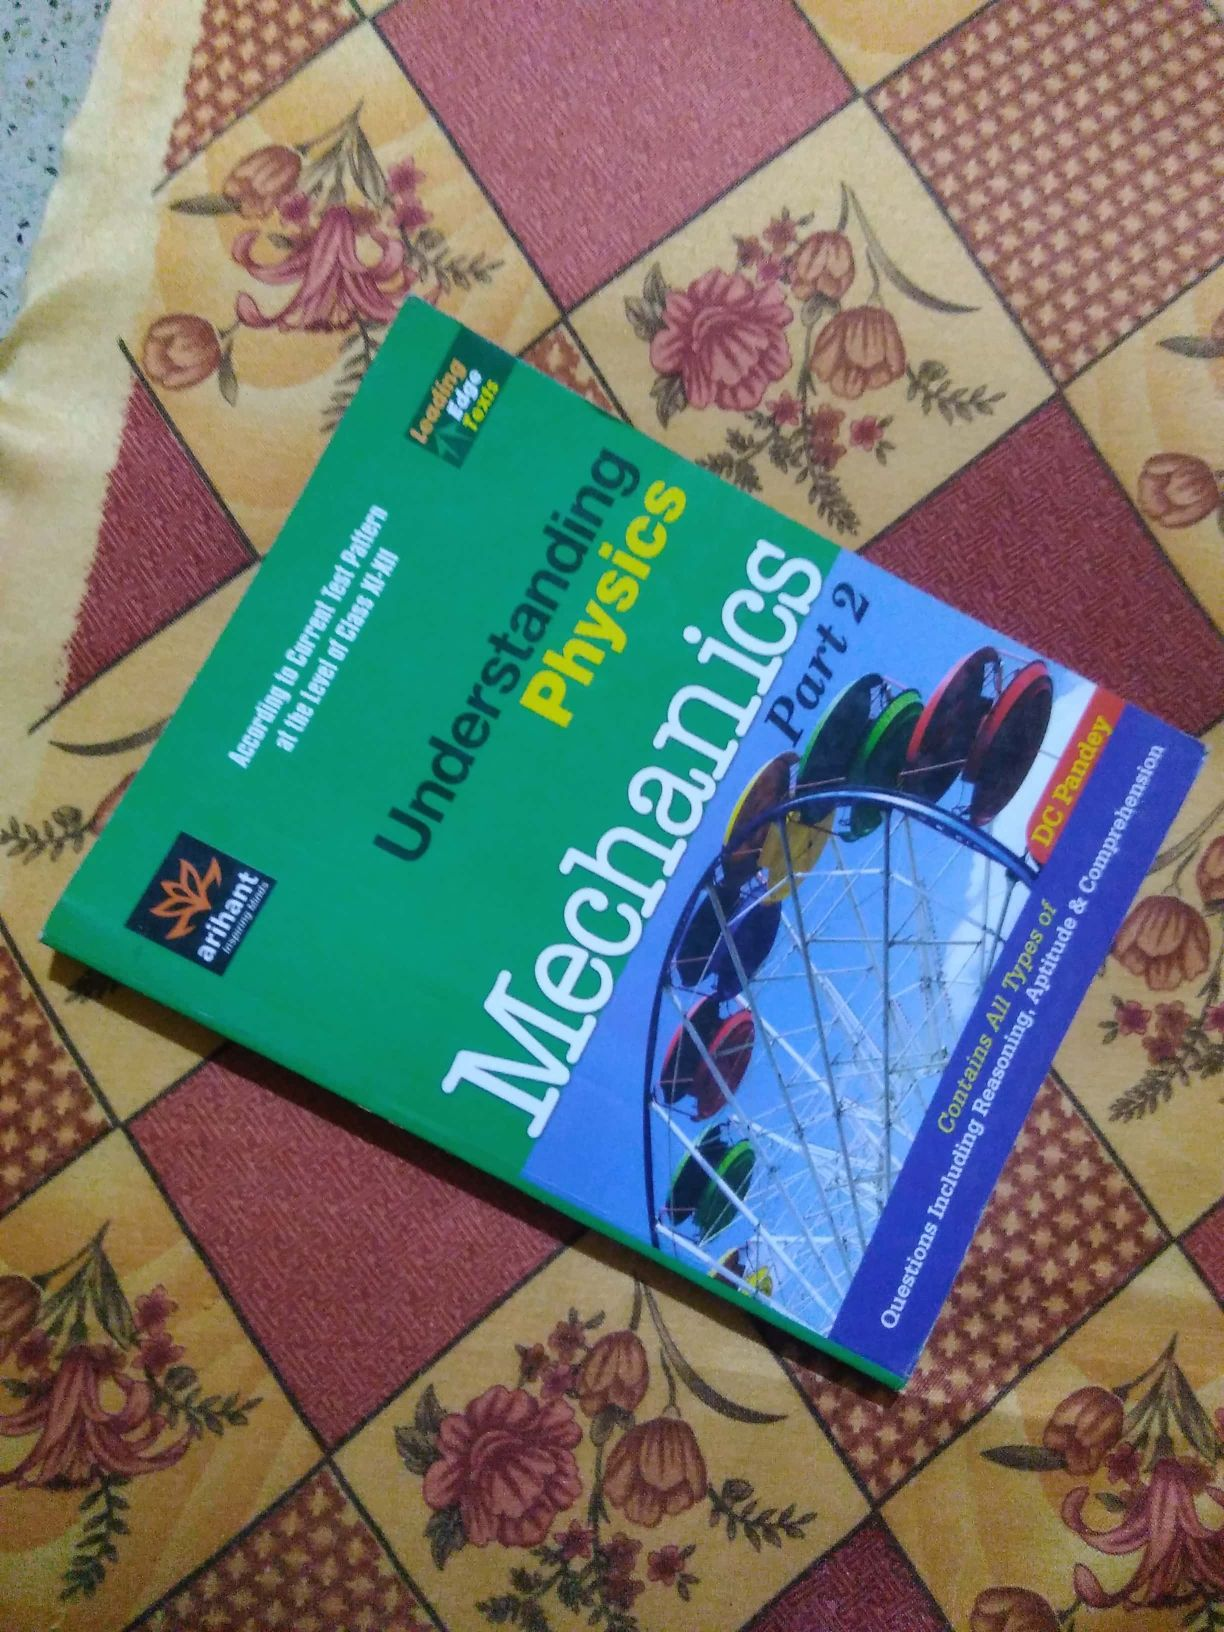mechanics: (107, 335, 1175, 1365)
